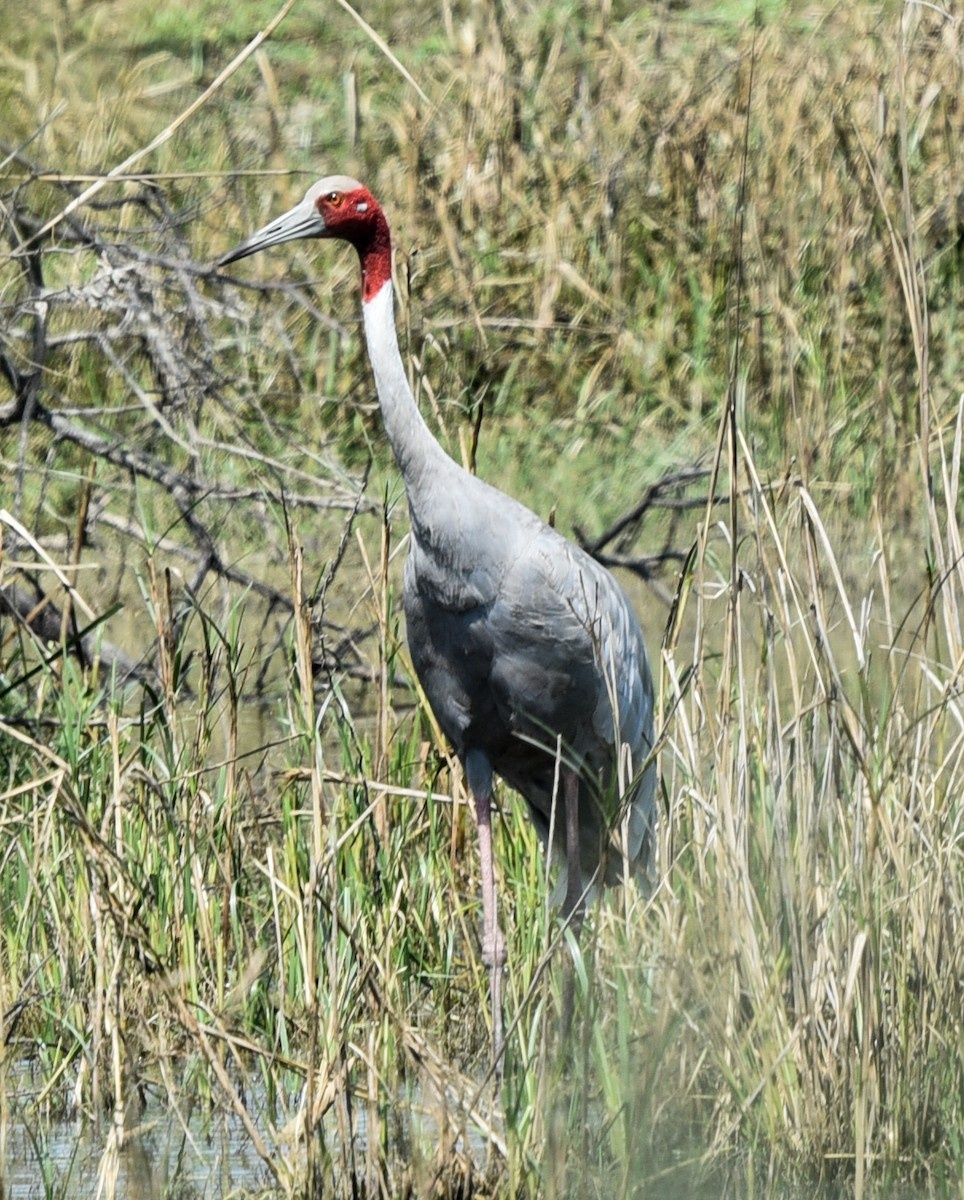crane: (238, 163, 699, 1017)
